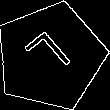L_SE: (21, 27, 80, 86)
